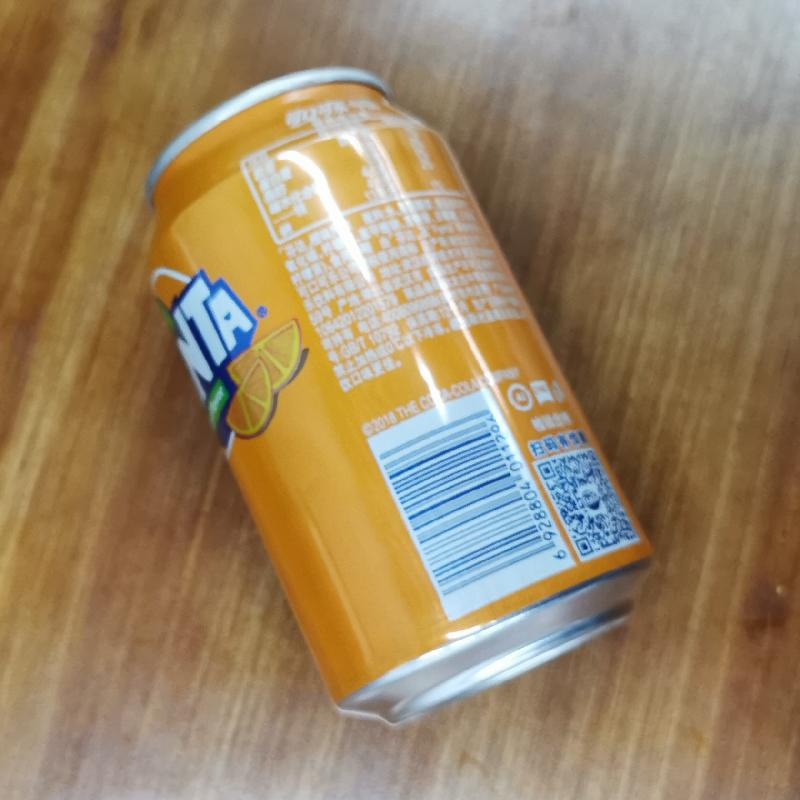cans: (139, 63, 659, 726)
